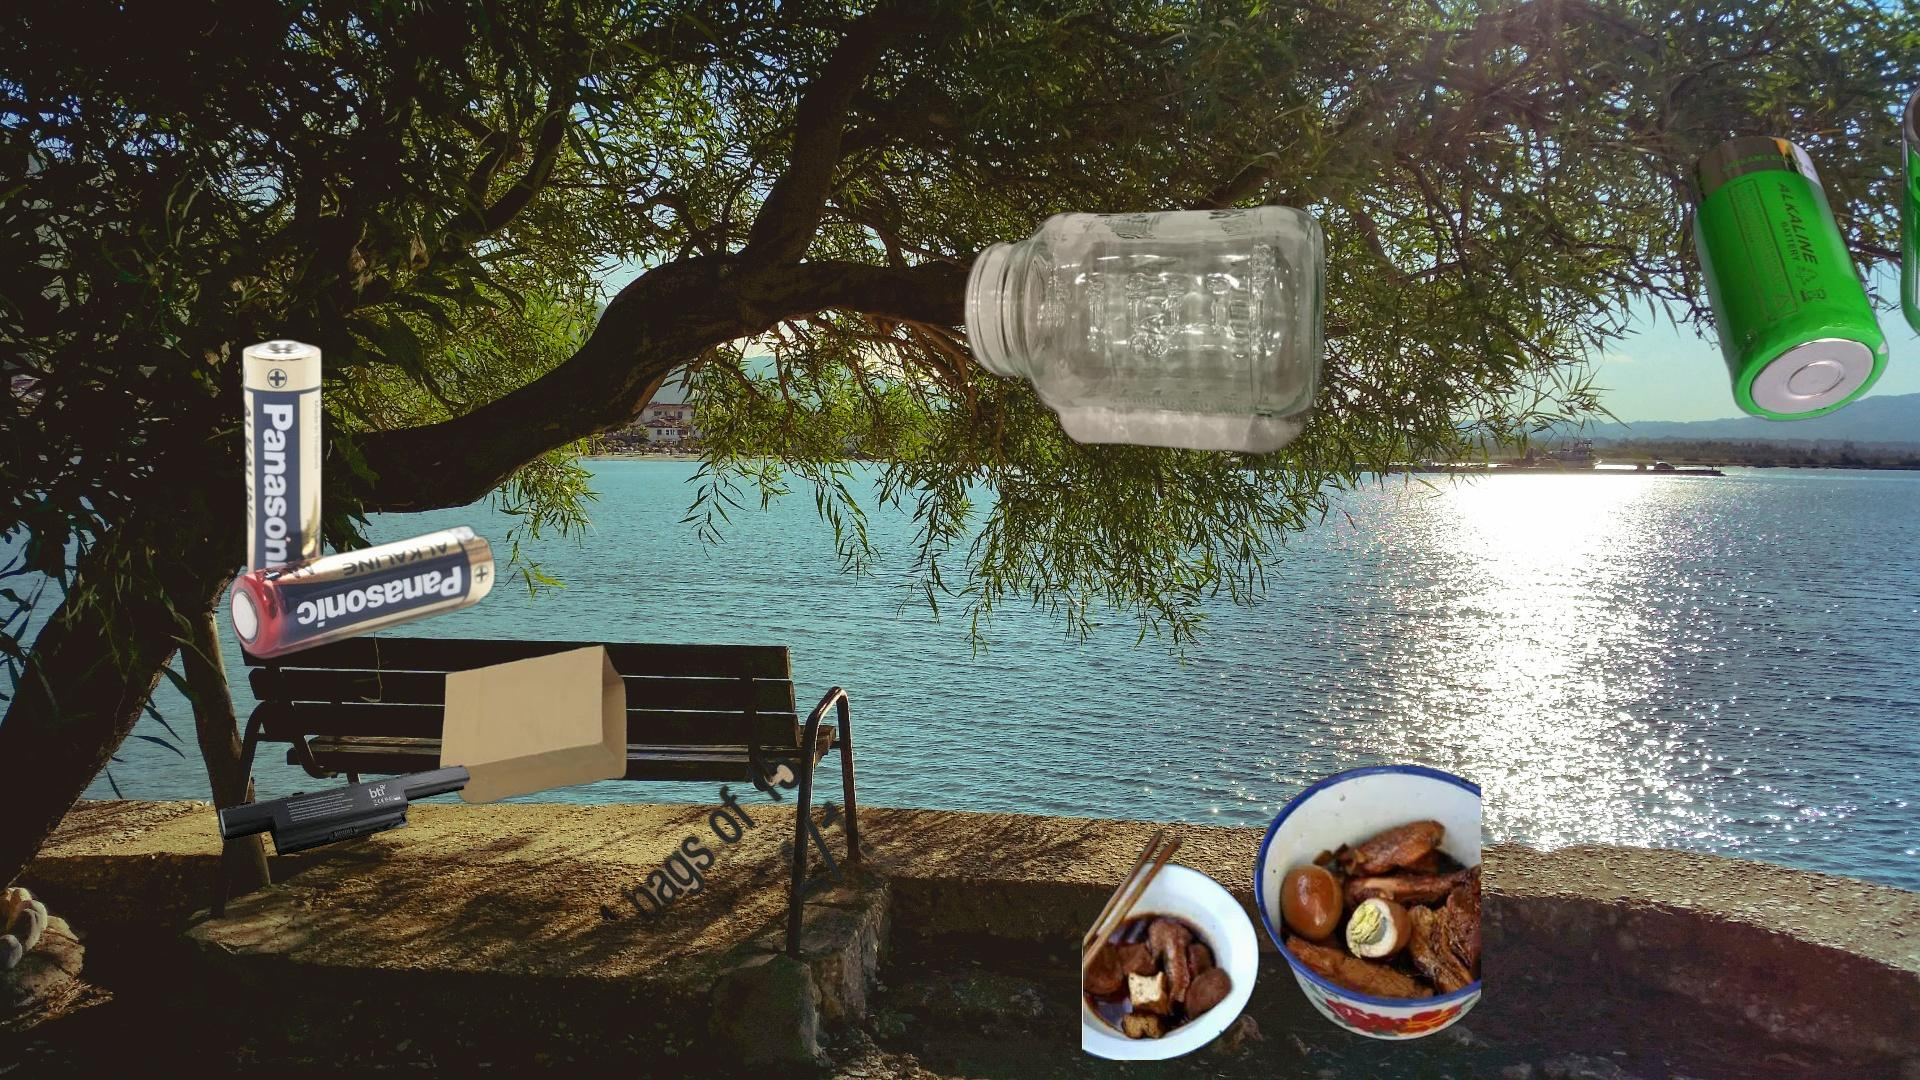battery: (223, 334, 502, 665), (1683, 63, 1920, 425), (216, 762, 473, 858)
biological: (1083, 761, 1481, 1060)
glass: (960, 200, 1385, 498)
paper-bag: (436, 637, 630, 807)
trashbox-cardboard: (566, 740, 880, 920)
